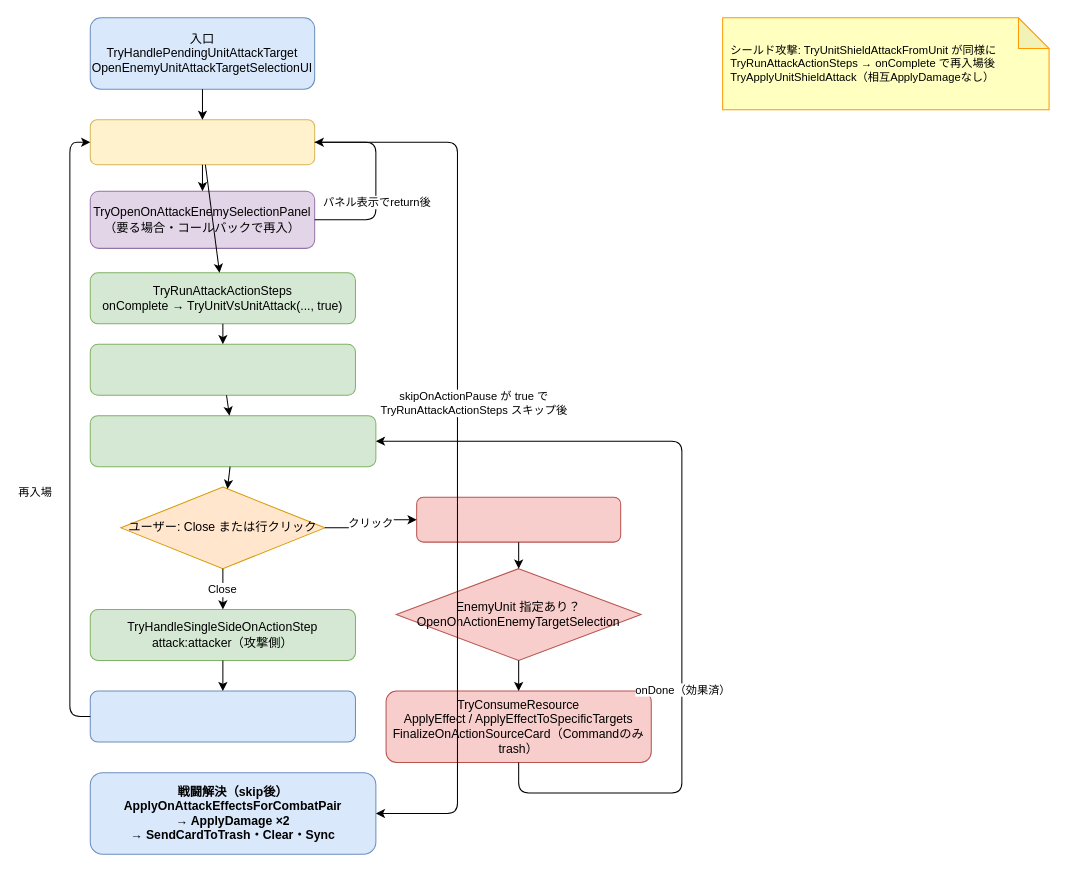
Some shapes in this 1067 by 872 pixel diagram are drawn without their labels. The centre of each missing label's shape, as x and y in pixels:
"onComplete.Invoke → TryUnitVsUnitAttack(..., skip:true)" goes at (222,716).
"TryExecuteOnActionCommand" goes at (518,519).
"TryHandleSingleSideOnActionStep attack:defender（防御側）" goes at (222,369).
"TryOpenOnActionCommandSelection （場ユニット→手札コマンドの順で一覧）" goes at (232,441).
"TryUnitVsUnitAttack" goes at (202,142).
